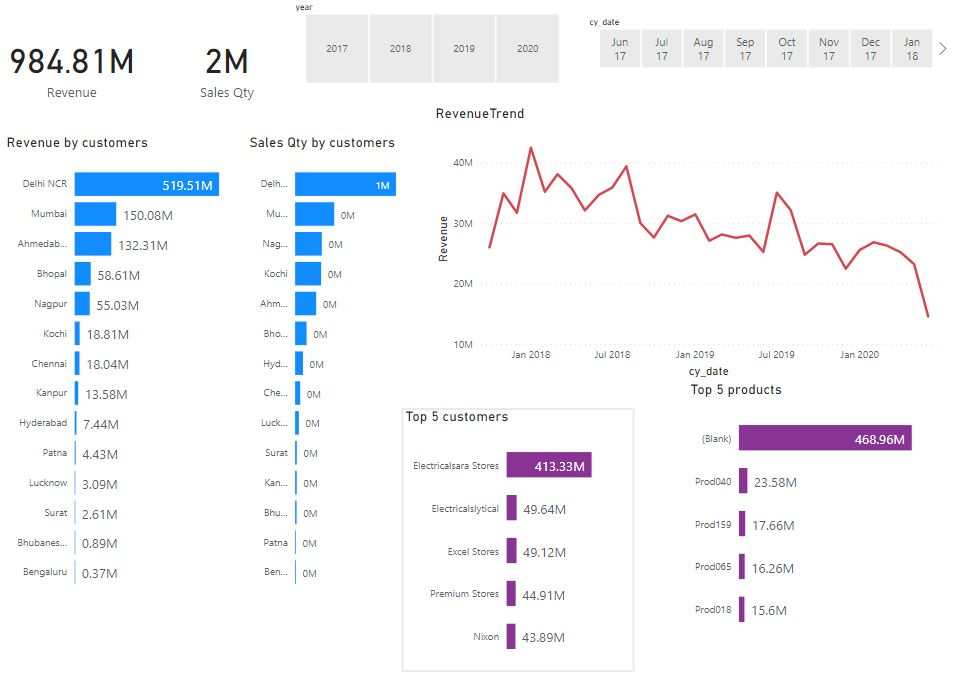

The dashboard page shown, as its layout file describes it:
{"tool":"powerbi","page":{"name":"Page 1","canvas":[1180,850],"ordinal":0},"visuals":[{"type":"card","fields":{"Values":["BaseMeasures.Revenue"]},"box":[0,0,192.9,165.6],"z":0},{"type":"card","fields":{"Values":["BaseMeasures.Sales Qty"]},"box":[214.8,0,140.1,165.6],"z":1},{"type":"barChart","title":"Revenue by customers","fields":{"Y":["BaseMeasures.Revenue"],"Category":["sales markets.markets_name"]},"box":[12.7,165.6,294.9,566.1],"z":2},{"type":"barChart","title":"Sales Qty by customers","fields":{"Y":["BaseMeasures.Sales Qty"],"Category":["sales markets.markets_name"]},"box":[307.6,165.6,189.3,566.1],"z":3},{"type":"slicer","fields":{"Values":["sales date.year"]},"box":[354.9,0,356.7,111],"z":4},{"type":"slicer","fields":{"Values":["sales date.cy_date"]},"box":[711.7,18.2,453.2,74.6],"z":5},{"type":"barChart","title":"Top 5 customers","fields":{"Y":["BaseMeasures.Revenue"],"Category":["sales customers.custmer_name","sales markets.markets_name"]},"box":[496.9,498.7,282.1,320.3],"z":6},{"type":"barChart","title":"Top 5 products","fields":{"Y":["BaseMeasures.Revenue"],"Category":["sales products.product_code"]},"box":[842.7,466,336.7,320.3],"z":7},{"type":"lineChart","title":"RevenueTrend","fields":{"Y":["BaseMeasures.Revenue"],"Category":["sales date.cy_date"]},"box":[533.3,131,631.6,334.9],"z":8}]}

Visuals, with their boxes in screenshot pixels (x1, y1, x2, y2), scaled from the page's 1180x850 canvas onto the 965x681 screenshot:
card - BaseMeasures.Revenue: left=0, top=0, right=158, bottom=133
card - BaseMeasures.Sales Qty: left=176, top=0, right=290, bottom=133
"Revenue by customers" barChart: left=10, top=133, right=252, bottom=586
"Sales Qty by customers" barChart: left=252, top=133, right=406, bottom=586
slicer - sales date.year: left=290, top=0, right=582, bottom=89
slicer - sales date.cy_date: left=582, top=15, right=953, bottom=74
"Top 5 customers" barChart: left=406, top=400, right=637, bottom=656
"Top 5 products" barChart: left=689, top=373, right=964, bottom=630
"RevenueTrend" lineChart: left=436, top=105, right=953, bottom=373
